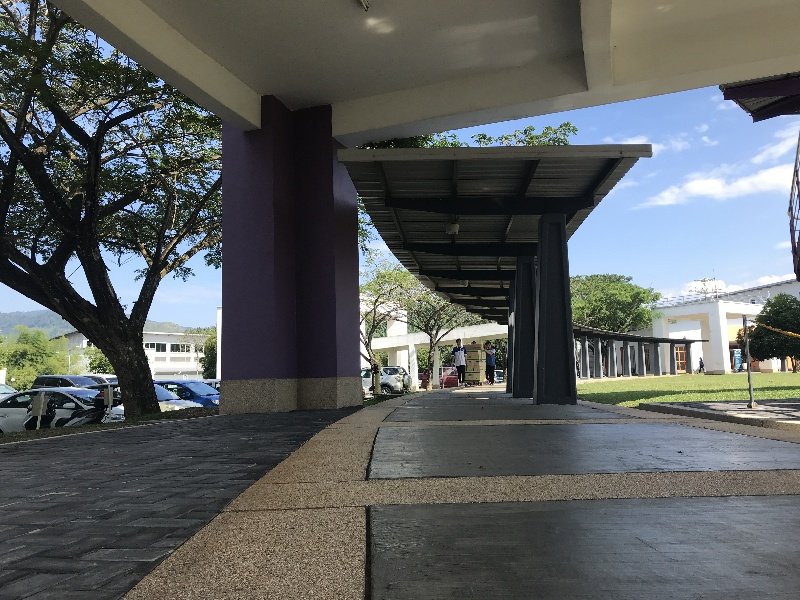Block D corridor: (5, 3, 798, 592)
pillar: (170, 84, 371, 425), (512, 214, 595, 411)
